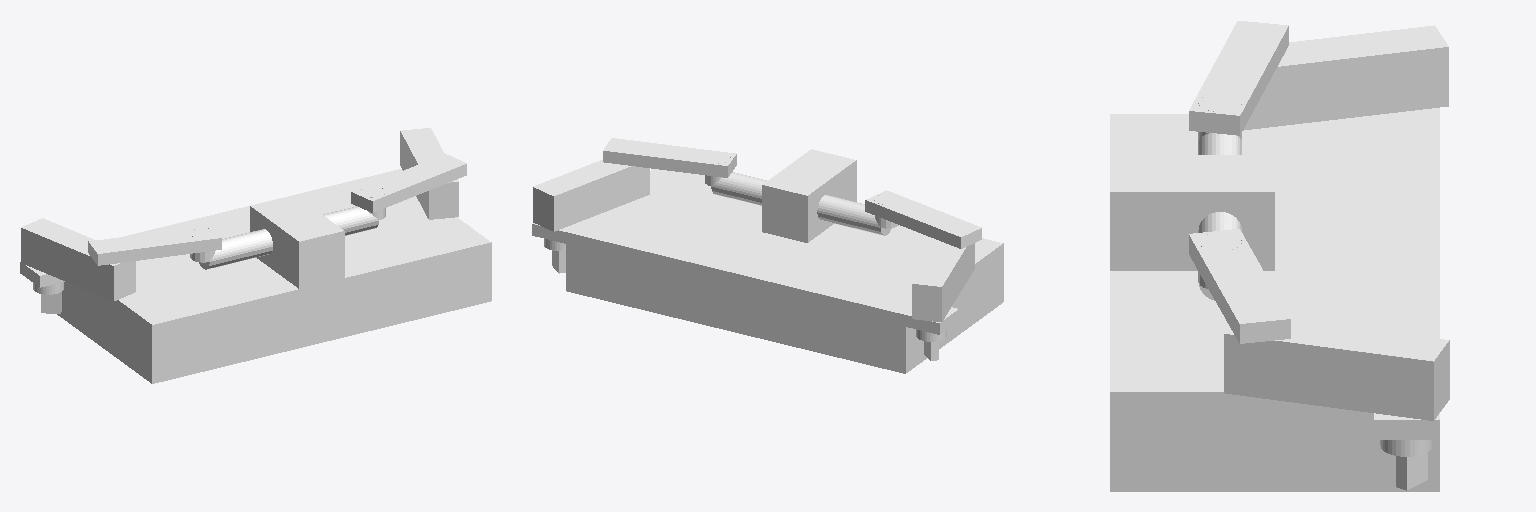
URDF robot description (ackerman):
<?xml version="1.0" encoding="utf-8"?>
<!-- This URDF was automatically created by SolidWorks to URDF Exporter! Originally created by [author] ([email redacted]) 
     Commit Version: 1.5.1-0-g916b5db  Build Version: 1.5.7152.31018
     For more information, please see http://wiki.ros.org/sw_urdf_exporter -->
<robot
  name="ackerman">
  <link
    name="base_link">
    <inertial>
      <origin
        xyz="-0.025893 -0.0071223 0.20147"
        rpy="0 0 0" />
      <mass
        value="0.2" />
      <inertia
        ixx="1"
        ixy="0"
        ixz="0"
        iyy="1"
        iyz="0"
        izz="1" />
    </inertial>
    <visual>
      <origin
        xyz="0 0 0"
        rpy="0 0 0" />
      <geometry>
        <mesh
          filename="package://ackerman/meshes/base_link.STL" />
      </geometry>
      <material
        name="">
        <color
          rgba="1 1 1 1" />
      </material>
    </visual>
    <collision>
      <origin
        xyz="0 0 0"
        rpy="0 0 0" />
      <geometry>
        <mesh
          filename="package://ackerman/meshes/base_link.STL" />
      </geometry>
    </collision>
  </link>
  <link
    name="center_link">
    <inertial>
      <origin
        xyz="-0.026983 -0.0019971 -4.2365E-09"
        rpy="0 0 0" />
      <mass
        value="1" />
      <inertia
        ixx="1"
        ixy="0"
        ixz="0"
        iyy="1"
        iyz="0"
        izz="1" />
    </inertial>
    <visual>
      <origin
        xyz="0 0 0"
        rpy="0 0 0" />
      <geometry>
        <mesh
          filename="package://ackerman/meshes/center_link.STL" />
      </geometry>
      <material
        name="">
        <color
          rgba="1 1 1 1" />
      </material>
    </visual>
    <collision>
      <origin
        xyz="0 0 0"
        rpy="0 0 0" />
      <geometry>
        <mesh
          filename="package://ackerman/meshes/center_link.STL" />
      </geometry>
    </collision>
  </link>
  <joint
    name="slide_joint"
    type="prismatic">
    <origin
      xyz="0 -0.225 0.035738"
      rpy="-1.5708 0 0" />
    <parent
      link="base_link" />
    <child
      link="center_link" />
    <axis
      xyz="1 0 0" />
    <limit
      lower="-0.05"
      upper="0.05"
      effort="0.1"
      velocity="0.1" />
    <dynamics
      friction="0" />
  </joint>
  <link
    name="arm_link1_left">
    <inertial>
      <origin
        xyz="-0.0464531889391942 -0.00630899693899573 -0.0106194174430337"
        rpy="0 0 0" />
      <mass
        value="0.024" />
      <inertia
        ixx="1"
        ixy="0"
        ixz="0"
        iyy="1"
        iyz="0"
        izz="1" />
    </inertial>
    <visual>
      <origin
        xyz="0 0 0"
        rpy="0 0 0" />
      <geometry>
        <mesh
          filename="package://ackerman/meshes/arm_link1_left.STL" />
      </geometry>
      <material
        name="">
        <color
          rgba="1 1 1 1" />
      </material>
    </visual>
    <collision>
      <origin
        xyz="0 0 0"
        rpy="0 0 0" />
      <geometry>
        <mesh
          filename="package://ackerman/meshes/arm_link1_left.STL" />
      </geometry>
    </collision>
  </link>
  <joint
    name="left_joint_1"
    type="continuous">
    <origin
      xyz="-0.10198 -0.02 0"
      rpy="3.1416 0 0" />
    <parent
      link="center_link" />
    <child
      link="arm_link1_left" />
    <axis
      xyz="0 1 0" />
    <dynamics
      friction="0" />
  </joint>
  <link
    name="arm_link2_left">
    <inertial>
      <origin
        xyz="-0.012086 -0.0059561 -0.043719"
        rpy="0 0 0" />
      <mass
        value="0.065717" />
      <inertia
        ixx="1"
        ixy="0"
        ixz="0"
        iyy="1"
        iyz="0"
        izz="1" />
    </inertial>
    <visual>
      <origin
        xyz="0 0 0"
        rpy="0 0 0" />
      <geometry>
        <mesh
          filename="package://ackerman/meshes/arm_link2_left.STL" />
      </geometry>
      <material
        name="">
        <color
          rgba="1 1 1 1" />
      </material>
    </visual>
    <collision>
      <origin
        xyz="0 0 0"
        rpy="0 0 0" />
      <geometry>
        <mesh
          filename="package://ackerman/meshes/arm_link2_left.STL" />
      </geometry>
    </collision>
  </link>
  <joint
    name="left_joint2"
    type="continuous">
    <origin
      xyz="-0.069826 -0.02 -0.015962"
      rpy="0 0 0" />
    <parent
      link="arm_link1_left" />
    <child
      link="arm_link2_left" />
    <axis
      xyz="0 -1 0" />
    <dynamics
      friction="0" />
  </joint>
  <link
    name="left_flag_link">
    <inertial>
      <origin
        xyz="-0.00071532 0.009292 0.00024226"
        rpy="0 0 0" />
      <mass
        value="0.001" />
      <inertia
        ixx="1"
        ixy="0"
        ixz="0"
        iyy="1"
        iyz="0"
        izz="1" />
    </inertial>
    <visual>
      <origin
        xyz="0 0 0"
        rpy="0 0 0" />
      <geometry>
        <mesh
          filename="package://ackerman/meshes/left_flag_link.STL" />
      </geometry>
      <material
        name="">
        <color
          rgba="1 1 1 1" />
      </material>
    </visual>
    <collision>
      <origin
        xyz="0 0 0"
        rpy="0 0 0" />
      <geometry>
        <mesh
          filename="package://ackerman/meshes/left_flag_link.STL" />
      </geometry>
    </collision>
  </link>
  <joint
    name="left_fixed"
    type="fixed">
    <origin
      xyz="-0.018158 -0.03 -0.068827"
      rpy="0 0.6645 3.1416" />
    <parent
      link="arm_link2_left" />
    <child
      link="left_flag_link" />
    <axis
      xyz="0 0 0" />
  </joint>
  <link
    name="arm_link1_right">
    <inertial>
      <origin
        xyz="0.046346 -0.006309 -0.011078"
        rpy="0 0 0" />
      <mass
        value="0.024" />
      <inertia
        ixx="1"
        ixy="0"
        ixz="0"
        iyy="1"
        iyz="0"
        izz="1" />
    </inertial>
    <visual>
      <origin
        xyz="0 0 0"
        rpy="0 0 0" />
      <geometry>
        <mesh
          filename="package://ackerman/meshes/arm_link1_right.STL" />
      </geometry>
      <material
        name="">
        <color
          rgba="1 1 1 1" />
      </material>
    </visual>
    <collision>
      <origin
        xyz="0 0 0"
        rpy="0 0 0" />
      <geometry>
        <mesh
          filename="package://ackerman/meshes/arm_link1_right.STL" />
      </geometry>
    </collision>
  </link>
  <joint
    name="right_joint1"
    type="continuous">
    <origin
      xyz="0.048017 -0.02 0"
      rpy="3.1416 0 0" />
    <parent
      link="center_link" />
    <child
      link="arm_link1_right" />
    <axis
      xyz="0 1 0" />
    <dynamics
      friction="0" />
  </joint>
  <link
    name="arm_link2_right">
    <inertial>
      <origin
        xyz="0.013568 -0.0059561 -0.043282"
        rpy="0 0 0" />
      <mass
        value="0.065717" />
      <inertia
        ixx="1"
        ixy="0"
        ixz="0"
        iyy="1"
        iyz="0"
        izz="1" />
    </inertial>
    <visual>
      <origin
        xyz="0 0 0"
        rpy="0 0 0" />
      <geometry>
        <mesh
          filename="package://ackerman/meshes/arm_link2_right.STL" />
      </geometry>
      <material
        name="">
        <color
          rgba="1 1 1 1" />
      </material>
    </visual>
    <collision>
      <origin
        xyz="0 0 0"
        rpy="0 0 0" />
      <geometry>
        <mesh
          filename="package://ackerman/meshes/arm_link2_right.STL" />
      </geometry>
    </collision>
  </link>
  <joint
    name="right_joint2"
    type="continuous">
    <origin
      xyz="0.069664 -0.02 -0.016653"
      rpy="0 0 0" />
    <parent
      link="arm_link1_right" />
    <child
      link="arm_link2_right" />
    <axis
      xyz="0 -1 0" />
    <dynamics
      friction="0" />
  </joint>
  <link
    name="right_flag_link">
    <inertial>
      <origin
        xyz="-0.00072482 0.009292 0.00026181"
        rpy="0 0 0" />
      <mass
        value="0.001" />
      <inertia
        ixx="1"
        ixy="0"
        ixz="0"
        iyy="1"
        iyz="0"
        izz="1" />
    </inertial>
    <visual>
      <origin
        xyz="0 0 0"
        rpy="0 0 0" />
      <geometry>
        <mesh
          filename="package://ackerman/meshes/right_flag_link.STL" />
      </geometry>
      <material
        name="">
        <color
          rgba="1 1 1 1" />
      </material>
    </visual>
    <collision>
      <origin
        xyz="0 0 0"
        rpy="0 0 0" />
      <geometry>
        <mesh
          filename="package://ackerman/meshes/right_flag_link.STL" />
      </geometry>
    </collision>
  </link>
  <joint
    name="right_fixed_link"
    type="fixed">
    <origin
      xyz="0.021425 -0.03 -0.068347"
      rpy="3.1416 -0.69747 0" />
    <parent
      link="arm_link2_right" />
    <child
      link="right_flag_link" />
    <axis
      xyz="0 0 0" />
  </joint>





  <gazebo>
     <plugin name="gazebo_ros_control" filename="libgazebo_ros_control.so">
     <robotNamespace>/ackerman</robotNamespace>
     <controlPeriod>0.001</controlPeriod>
     <robotSimType>gazebo_ros_control/DefaultRobotHWSim</robotSimType>
     <legacyModeNS>true</legacyModeNS>
     </plugin>
  </gazebo>


 <transmission name="slide_joint_trans">
    <type>transmission_interface/SimpleTransmission</type>
    <joint name="slide_joint">
      <hardwareInterface>hardware_interface/PositionJointInterface</hardwareInterface>
    </joint>
    <actuator name="motor1">
      <hardwareInterface>hardware_interface/PositionJointInterface</hardwareInterface>
      <mechanicalReduction>1</mechanicalReduction>
    </actuator>
  </transmission>






</robot>

--- Render facts (derived) ---
3 views of the same robot in one strip: view 1: azimuth 30°, elevation 25°; view 2: azimuth 150°, elevation 25°; view 3: azimuth 270°, elevation 25° (orthographic).
Model ackerman with 8 links and 7 joints (4 continuous, 1 prismatic, 2 fixed), rooted at base_link, posed all joints at 0.
Visible links, largest first — view 1: base_link, arm_link2_left, center_link, arm_link1_left, arm_link1_right, arm_link2_right, left_flag_link; view 2: base_link, arm_link2_right, arm_link2_left, center_link, arm_link1_right, arm_link1_left; view 3: base_link, arm_link2_right, arm_link2_left, arm_link1_right, arm_link1_left, center_link, right_flag_link.
Boxes of the visible links, <box> form: base_link: <box>20,169,491,383</box>; arm_link2_left: <box>21,218,135,301</box>; center_link: <box>190,187,385,269</box>; arm_link1_left: <box>88,225,221,265</box>; arm_link1_right: <box>351,154,466,212</box>; arm_link2_right: <box>400,128,458,219</box>; left_flag_link: <box>33,282,63,313</box>; base_link: <box>532,149,1003,373</box>; arm_link2_right: <box>533,160,649,231</box>; arm_link2_left: <box>912,240,974,321</box>; center_link: <box>705,153,899,235</box>; arm_link1_right: <box>603,138,736,177</box>; arm_link1_left: <box>865,190,981,248</box>; base_link: <box>1110,108,1439,491</box>; arm_link2_right: <box>1224,319,1449,420</box>; arm_link2_left: <box>1243,25,1448,130</box>; arm_link1_right: <box>1189,229,1290,343</box>; arm_link1_left: <box>1189,21,1288,135</box>; center_link: <box>1198,94,1241,300</box>; right_flag_link: <box>1380,440,1432,490</box>.
Size in the robot's own frame: 0.3624 by 0.1545 by 0.09 metres.
8 mesh visuals loaded from 8 distinct referenced files (8 binary STL).
